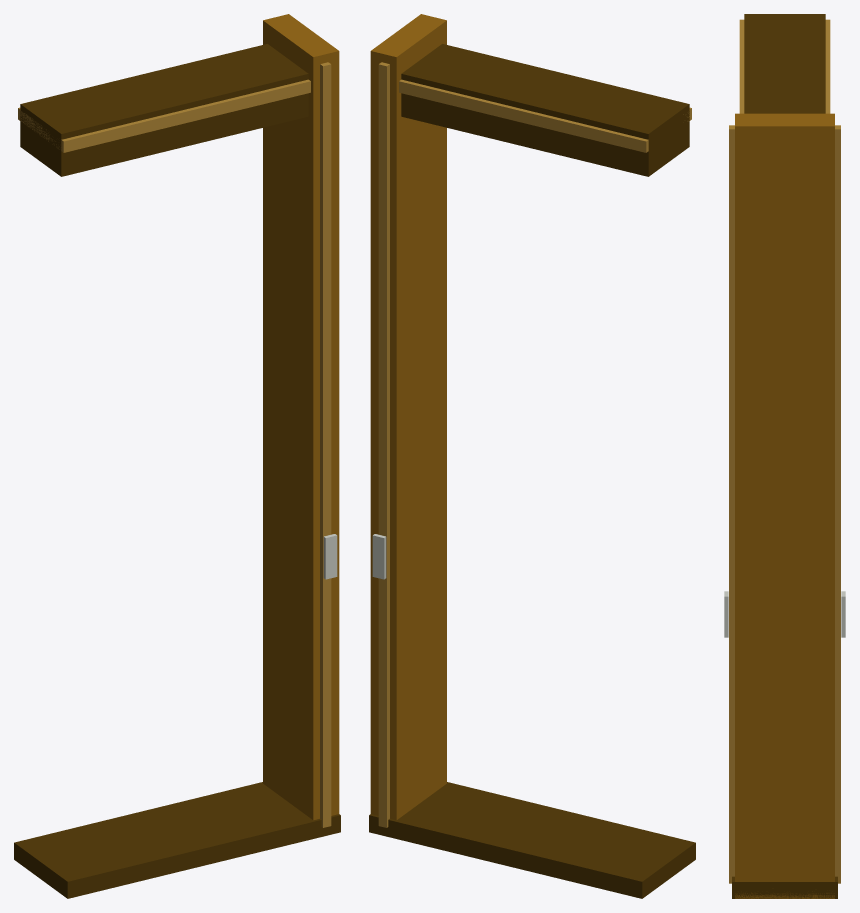
The model's file is CMU3DPairedEngineerSolidOpen.glb.
3 views of the same model, side by side, from view 1: azimuth 30°, elevation 25°; view 2: azimuth 150°, elevation 25°; view 3: azimuth 270°, elevation 25° (orthographic).
Parts seen in each view (by area): view 1: outer door jamb, continuous top track, threshold, outer jamb highlight, top track lip, outer access reader; view 2: outer door jamb, continuous top track, threshold, outer jamb highlight, top track lip, outer access reader back; view 3: outer door jamb, outer jamb highlight (×2), continuous top track, threshold, top track lip.
Part boxes in pixels (x1,y1,x2,y2): outer door jamb: [263, 14, 339, 820]; continuous top track: [20, 44, 308, 176]; threshold: [14, 782, 340, 898]; outer jamb highlight: [320, 62, 331, 827]; top track lip: [18, 79, 310, 152]; outer access reader: [323, 534, 337, 579]; outer door jamb: [370, 14, 446, 820]; continuous top track: [401, 44, 689, 176]; threshold: [369, 782, 695, 898]; outer jamb highlight: [378, 62, 389, 827]; top track lip: [399, 79, 691, 152]; outer access reader back: [372, 534, 386, 579]; outer door jamb: [735, 113, 834, 898]; outer jamb highlight (×2): [729, 125, 840, 883]; continuous top track: [744, 14, 825, 113]; threshold: [732, 876, 837, 898]; top track lip: [739, 19, 830, 113].
Size of the model in its own units: 1 by 2.73 by 0.388.
